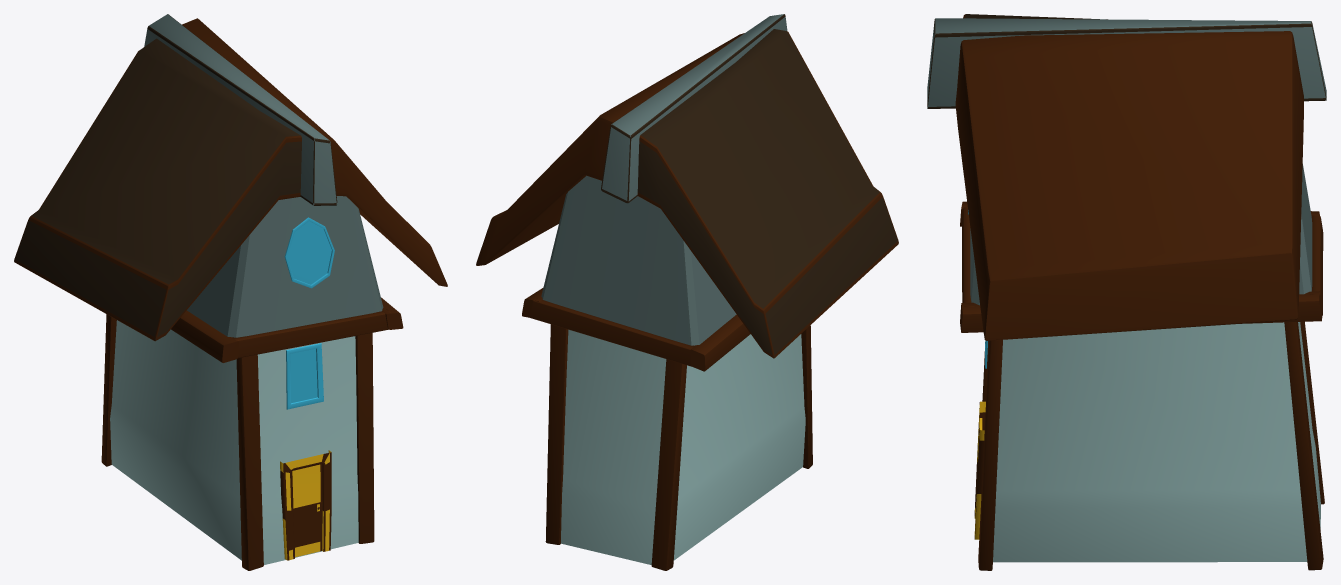
File: house_1.fbx
The picture shows the model from 3 angles, left to right: view 1: azimuth 30°, elevation 25°; view 2: azimuth 150°, elevation 25°; view 3: azimuth 270°, elevation 25°; orthographic projection. The views are drawn at different scales.
Visible parts, largest first — view 1: house_1; view 2: house_1; view 3: house_1.
Part boxes in pixels (x1=…): house_1: x1=14, y1=14, x2=447, y2=570; house_1: x1=476, y1=14, x2=898, y2=570; house_1: x1=927, y1=14, x2=1326, y2=570.
Size of the model in its own units: 106 by 146 by 103.
